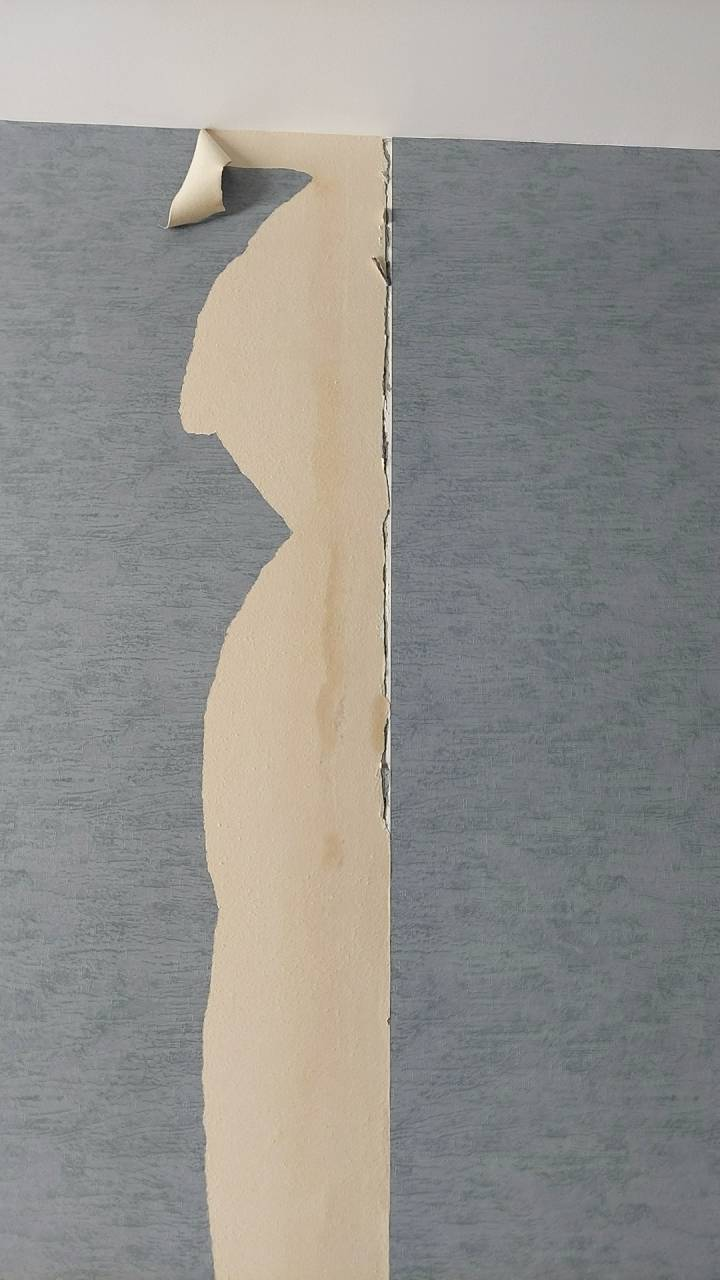Low: (350, 137, 402, 887)
